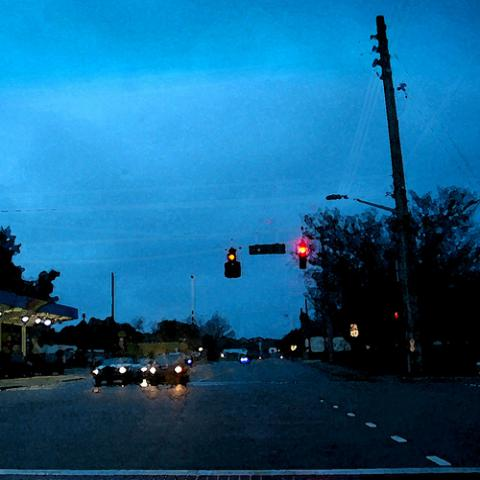car: (141, 352, 190, 388), (94, 357, 142, 385), (26, 352, 64, 377)
